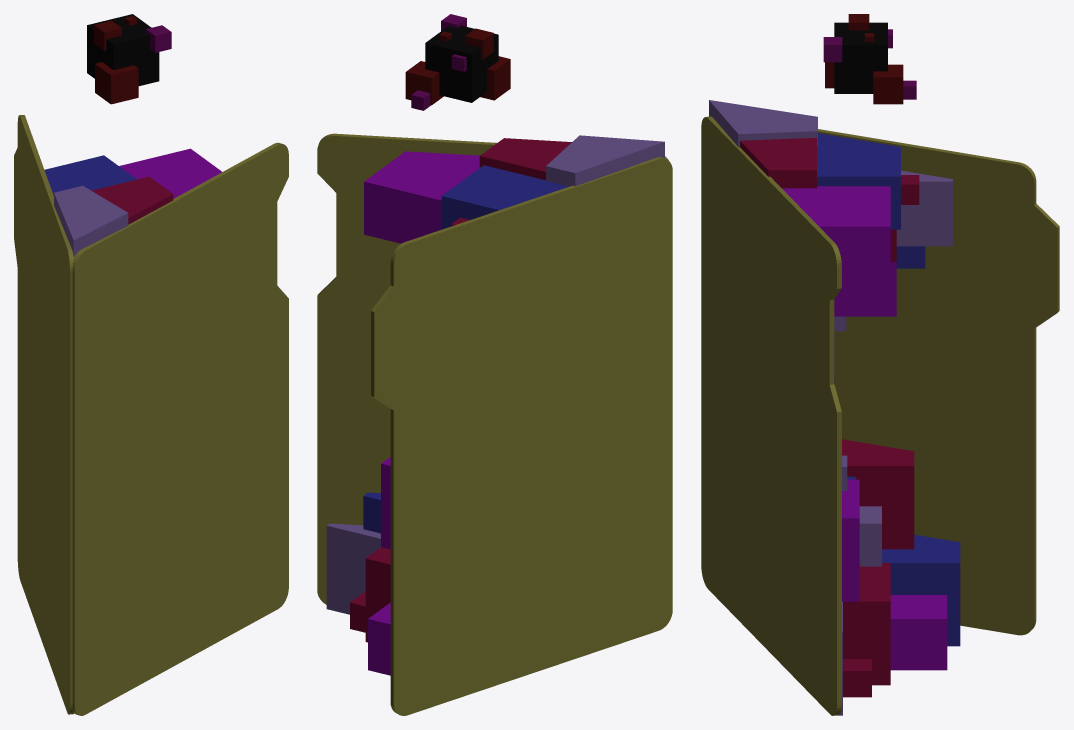
The model's file is OldSingle_Tower.fbx.
3 renders of one model, left to right at view 1: azimuth 30°, elevation 25°; view 2: azimuth 150°, elevation 25°; view 3: azimuth 270°, elevation 25°, orthographic.
Parts seen in each view (by area): view 1: Single_Tower_; view 2: Single_Tower_; view 3: Single_Tower_.
Part boxes in pixels (x1,y1,x2,y2): Single_Tower_: (14, 14, 288, 715); Single_Tower_: (317, 14, 672, 715); Single_Tower_: (701, 14, 1059, 715).
Bounding box in the file's own units: 2.88 × 5.9 × 3.1.
